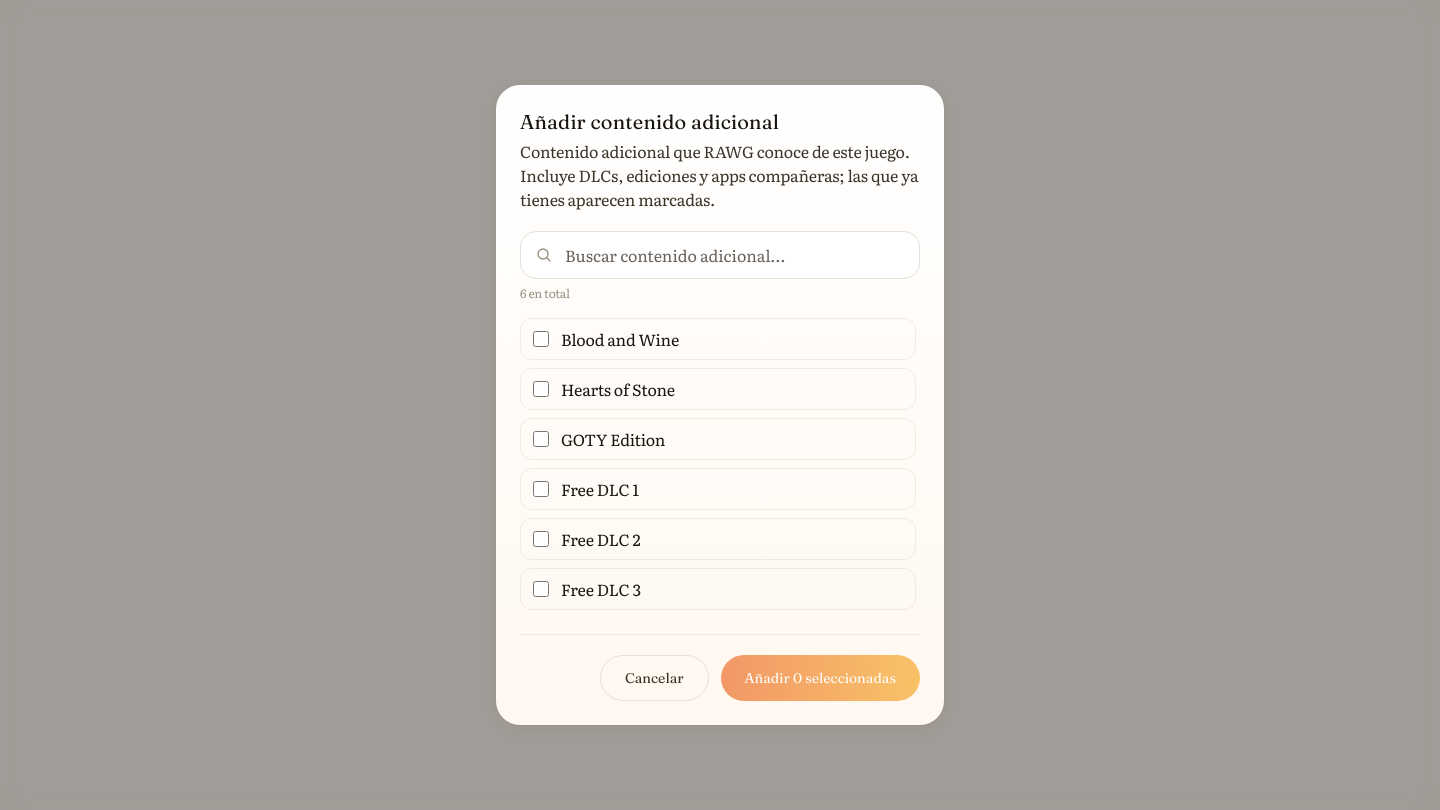
Scenario: AddGameDlcsDialog con buscador › filtra las filas por título y avisa cuando no hay coincidencias
Type "hearts" into the search field labelled "Buscar contenido adicional" at (720, 255), box [520,231,920,279]
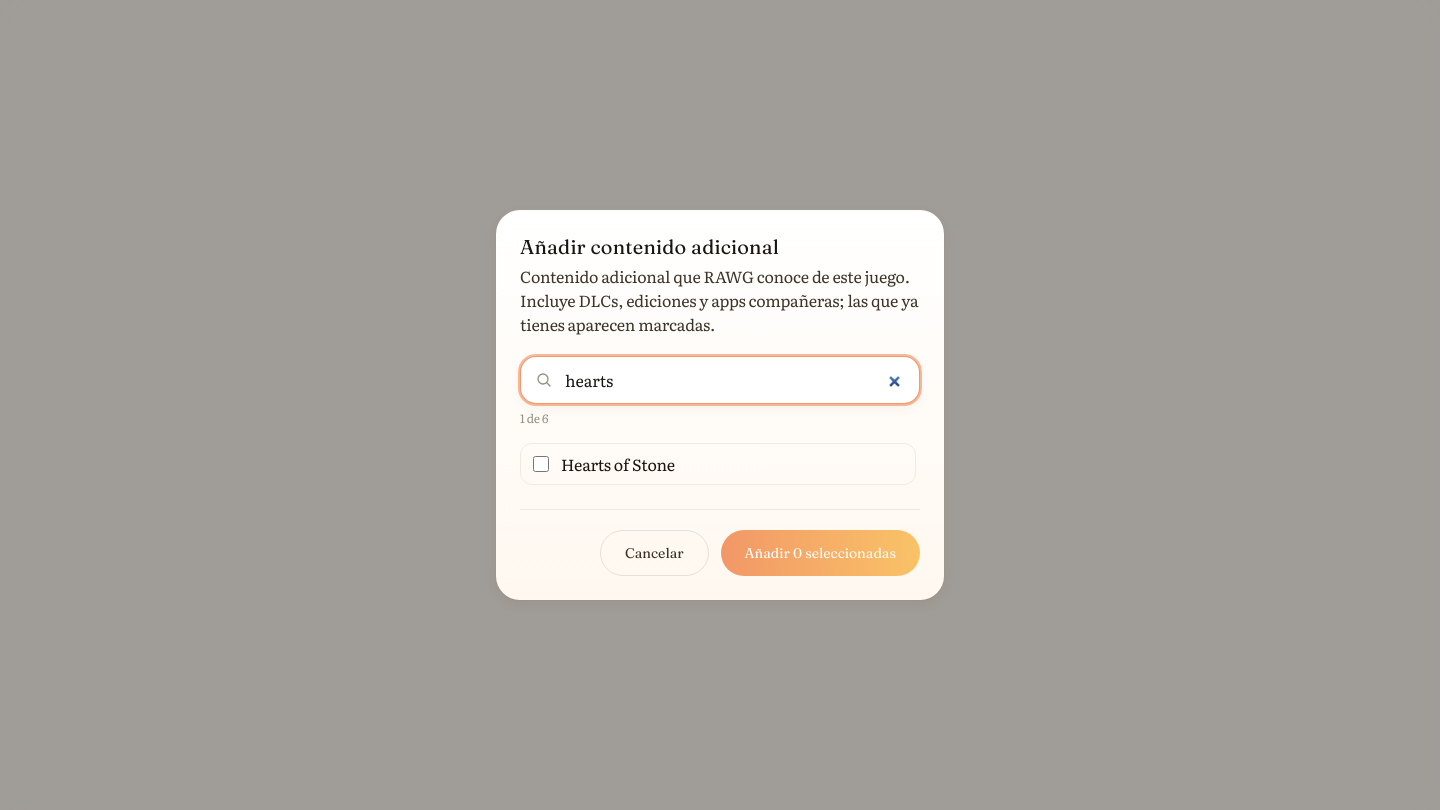
Check: the checkbox labelled "Hearts of Stone" is shown, box [533,456,549,472]
Check: the label "GOTY Edition" is gone
Check: the text "1 de 6" is shown, box [520,409,548,427]
Clear the search field named "Buscar contenido adicional" at (720, 380), box [520,356,920,404]
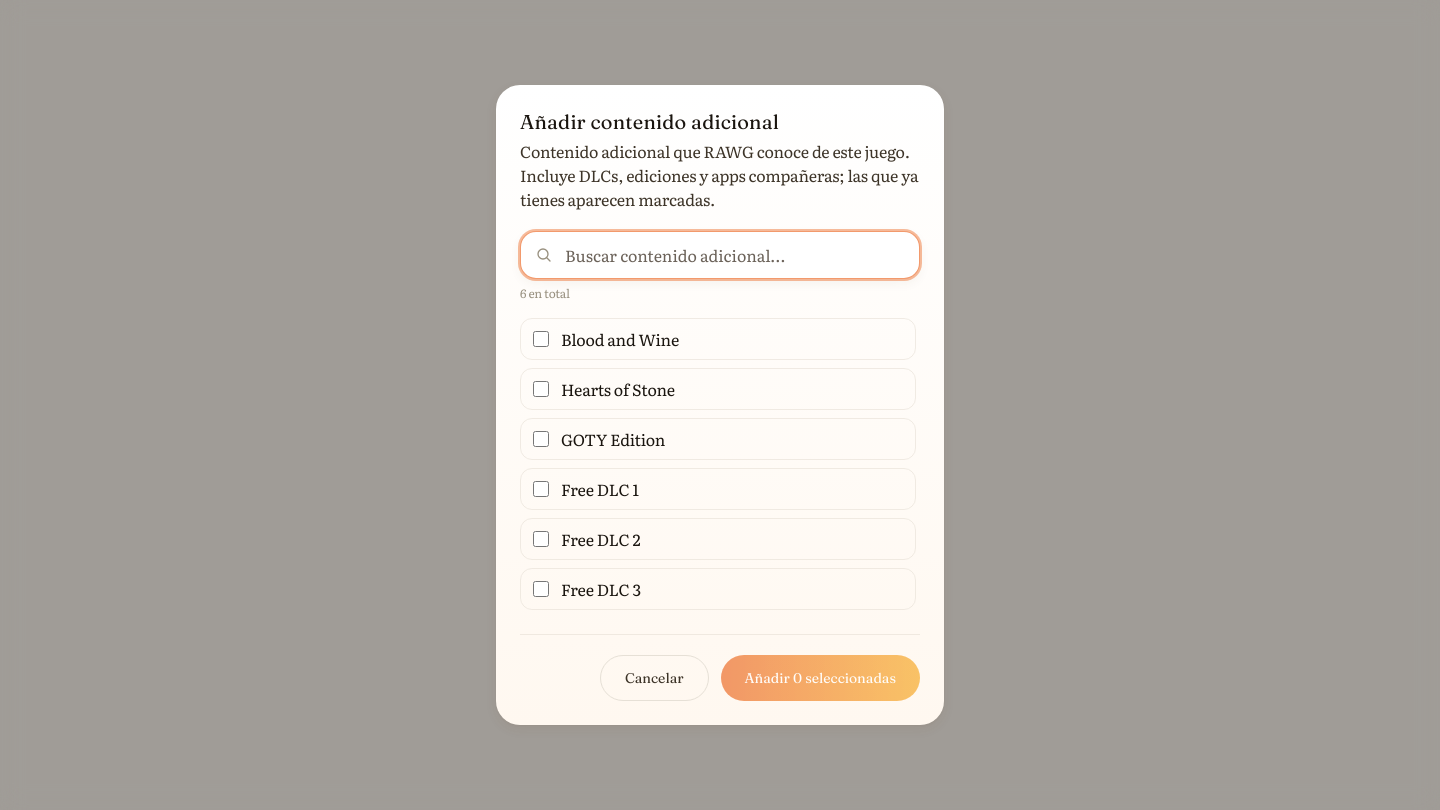
Type "zzz" into the search field labelled "Buscar contenido adicional" at (720, 255), box [520,231,920,279]
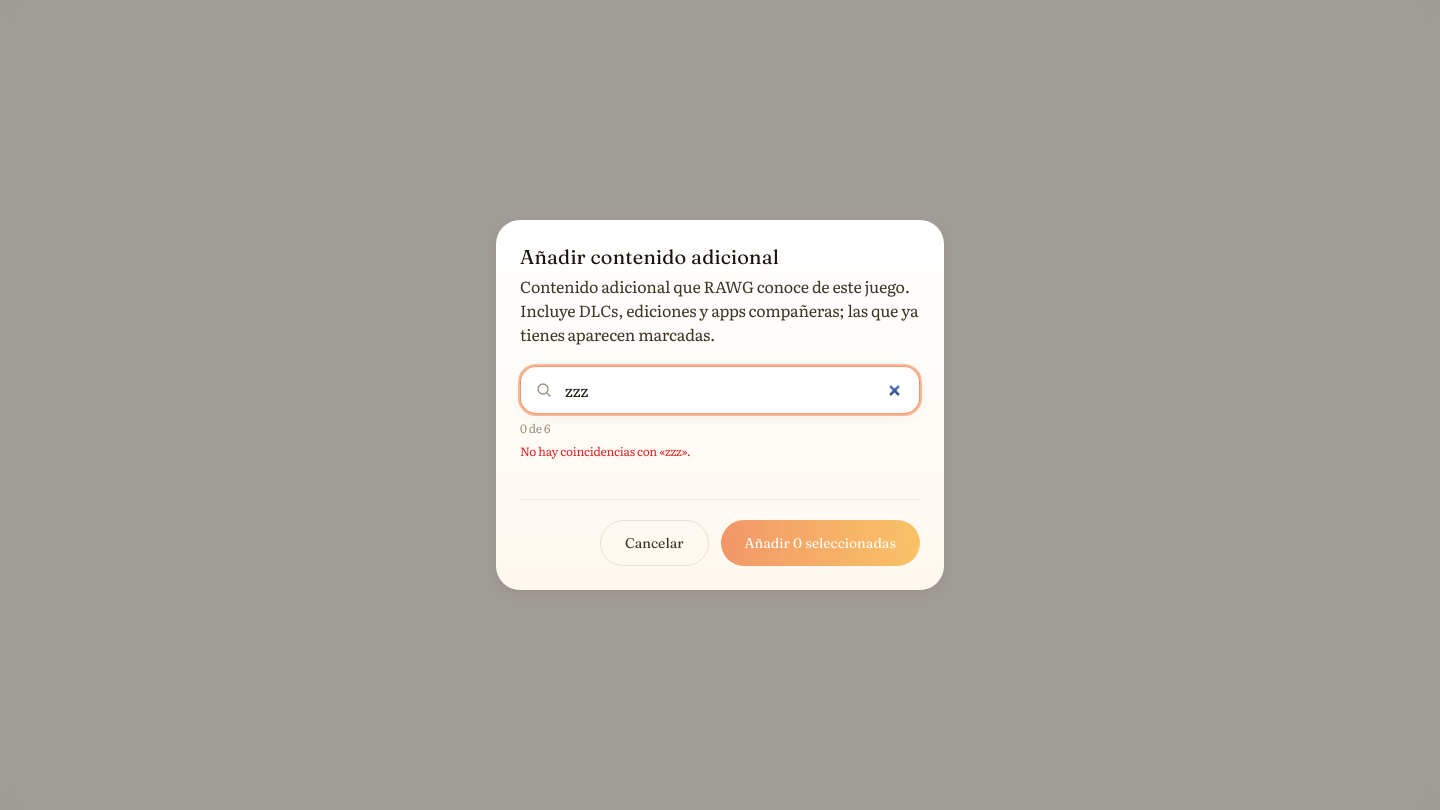
Check: the label "Hearts of Stone" is gone
Check: the message "No hay coincidencias con «zzz»." is shown, box [520,442,690,460]
